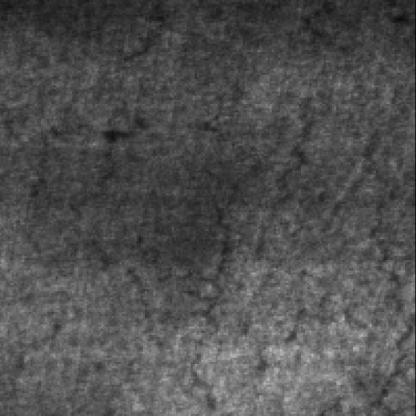crazing: (200, 127, 316, 362), (54, 64, 156, 312), (341, 127, 410, 410)
